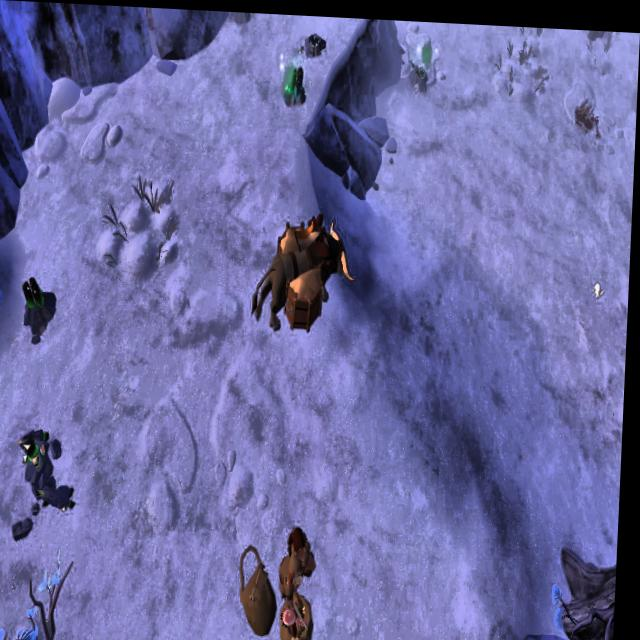enemy_factionKeeper: (280, 521, 321, 604)
ore_t3: (23, 275, 46, 312)
ore_t4: (286, 57, 307, 96)
